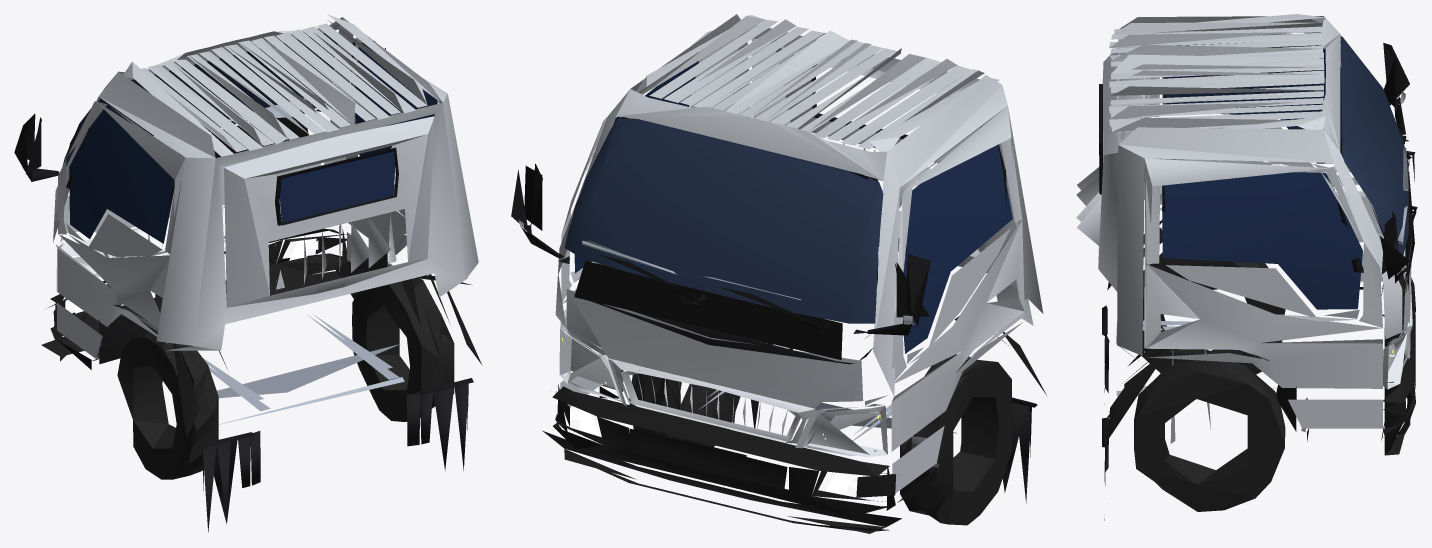
Rendered from cab_jac_lod2.glb.
3 renders of one model, left to right at view 1: azimuth 30°, elevation 25°; view 2: azimuth 150°, elevation 25°; view 3: azimuth 270°, elevation 25°, orthographic. The views are drawn at different scales.
Visible parts, largest first — view 1: lod2_paint_white_panel, lod2_rubber_tire, lod2_glass, lod2_plastic_black, lod2_plastic_trim, lod2_rubber, lod2_steel, lod2_glass_wind, lod2_chrome; view 2: lod2_paint_white_panel, lod2_glass_wind, lod2_plastic_trim, lod2_plastic_black, lod2_rubber_tire, lod2_glass, lod2_chrome, lod2_rubber, lod2_steel, lod2_lamp_white; view 3: lod2_paint_white_panel, lod2_glass, lod2_rubber_tire, lod2_glass_wind, lod2_plastic_black, lod2_plastic_trim, lod2_chrome, lod2_steel, lod2_rubber.
Boxes of the visible parts, box(x1,y1,x2,y2) form: lod2_paint_white_panel: box(53, 14, 478, 358); lod2_rubber_tire: box(117, 278, 454, 479); lod2_glass: box(69, 47, 437, 243); lod2_plastic_black: box(14, 38, 473, 448); lod2_plastic_trim: box(41, 228, 482, 437); lod2_rubber: box(202, 383, 468, 532); lod2_steel: box(153, 98, 404, 424); lod2_glass_wind: box(62, 33, 337, 166); lod2_chrome: box(22, 167, 280, 291); lod2_paint_white_panel: box(555, 14, 1043, 493); lod2_glass_wind: box(564, 118, 883, 323); lod2_plastic_trim: box(543, 316, 1047, 533); lod2_plastic_black: box(511, 64, 1037, 502); lod2_rubber_tire: box(629, 331, 1011, 525); lod2_glass: box(574, 61, 1012, 353); lod2_chrome: box(519, 220, 914, 457); lod2_rubber: box(733, 337, 1031, 503); lod2_steel: box(582, 240, 957, 440); lod2_lamp_white: box(570, 382, 857, 494); lod2_paint_white_panel: box(1076, 14, 1411, 428); lod2_glass: box(1162, 42, 1362, 309); lod2_rubber_tire: box(1134, 252, 1285, 511); lod2_glass_wind: box(1340, 36, 1408, 255); lod2_plastic_black: box(1099, 36, 1417, 447); lod2_plastic_trim: box(1107, 220, 1415, 455); lod2_chrome: box(1382, 91, 1412, 389); lod2_steel: box(1116, 148, 1408, 443); lod2_rubber: box(1104, 334, 1109, 520).
Bounding box in the file's own units: 3.09 × 3.16 × 2.43.
12 materials, 5 textured.
